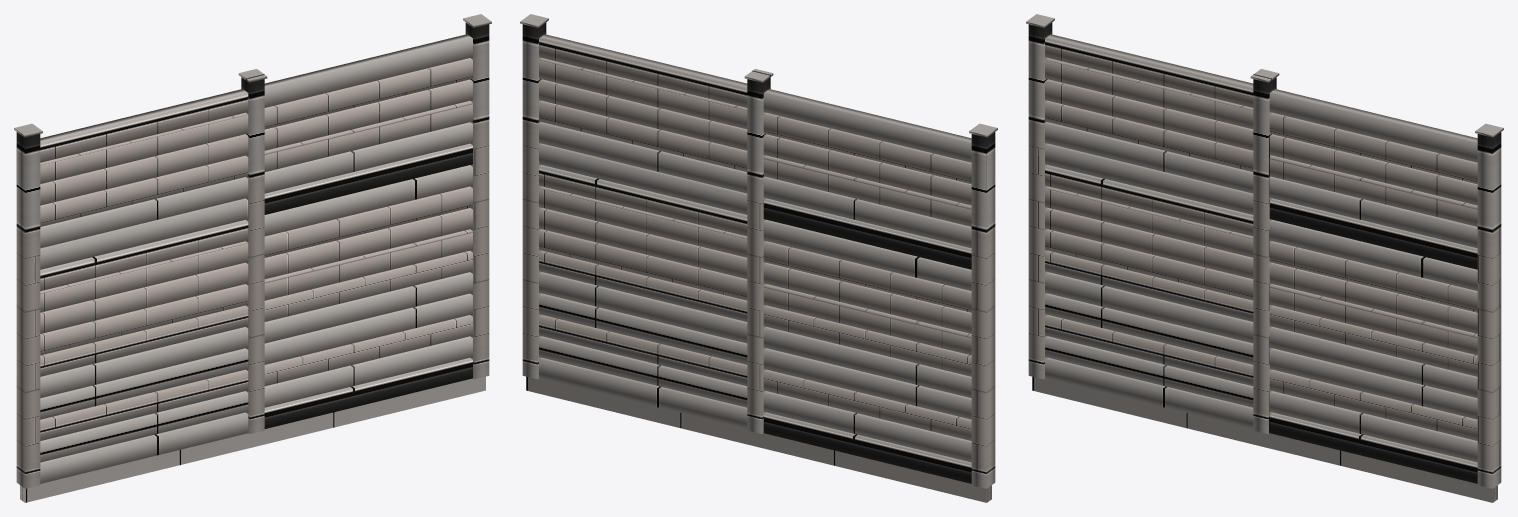
File: WallDivider_1.fbx
3 views of the same model, side by side, from view 1: azimuth 30°, elevation 25°; view 2: azimuth 150°, elevation 25°; view 3: azimuth 330°, elevation 25° (orthographic).
Visible parts, largest first — view 1: WallDivider_1_lo; view 2: WallDivider_1_lo; view 3: WallDivider_1_lo.
Part boxes in pixels (left/top/right/bottom): WallDivider_1_lo: left=14, top=14, right=491, bottom=502; WallDivider_1_lo: left=520, top=14, right=997, bottom=502; WallDivider_1_lo: left=1026, top=14, right=1503, bottom=502.
Size of the model in its own units: 312 by 236 by 12.2.
